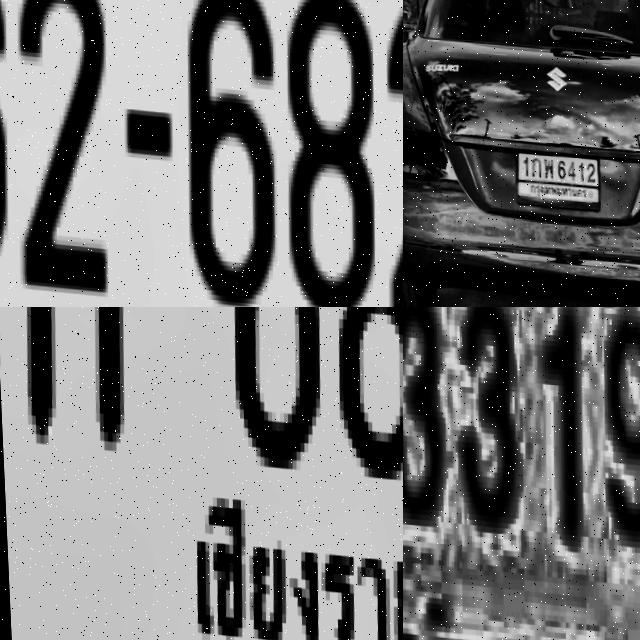license-plate: (0, 307, 403, 640), (0, 0, 403, 307), (403, 307, 640, 640), (509, 140, 599, 206)
